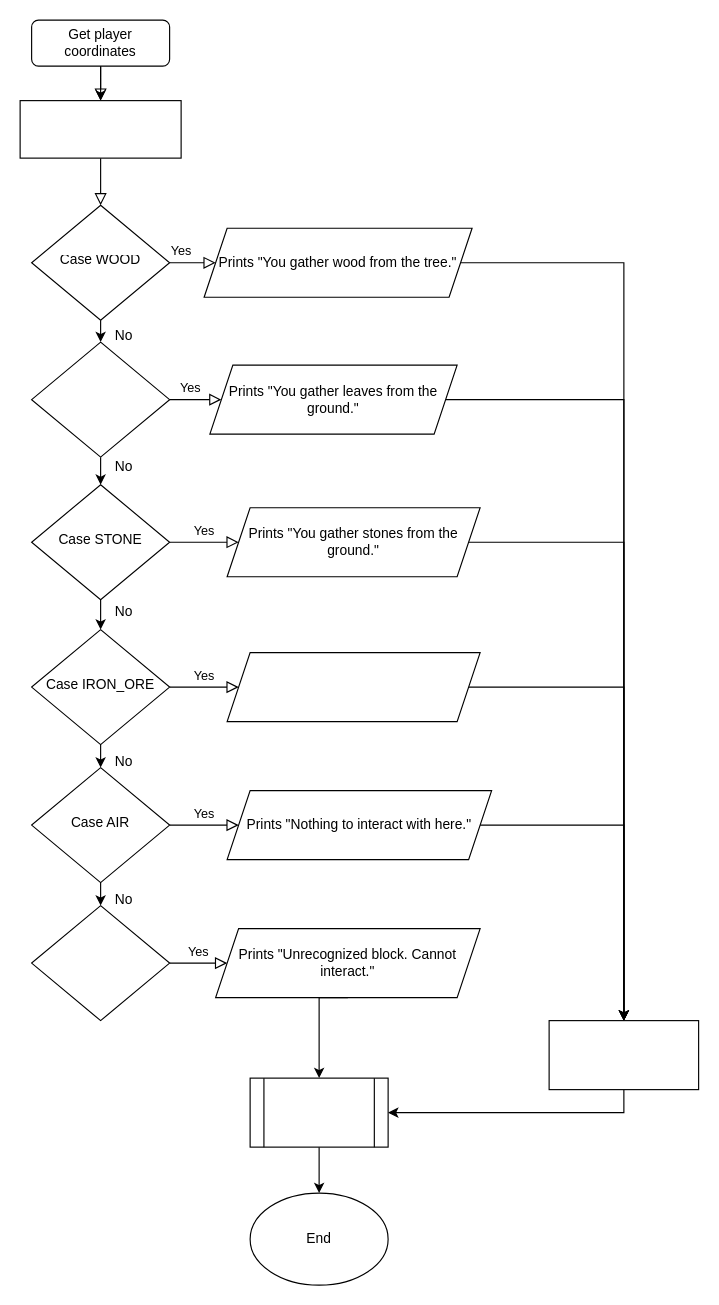
Some shapes in this 719 by 1305 pixel diagram are drawn without their labels. Here are the shapes that lost their labels. From the top down, the centre of each, then its label:
point 100,128: Switch Checks the types of block at the given coordinates
point 100,399: Case LEAVES
point 353,686: Prints "You gather iron ore from the tree."
point 100,962: Default case
point 623,1054: Add item to player inventory
point 318,1112: Wait for Enter
